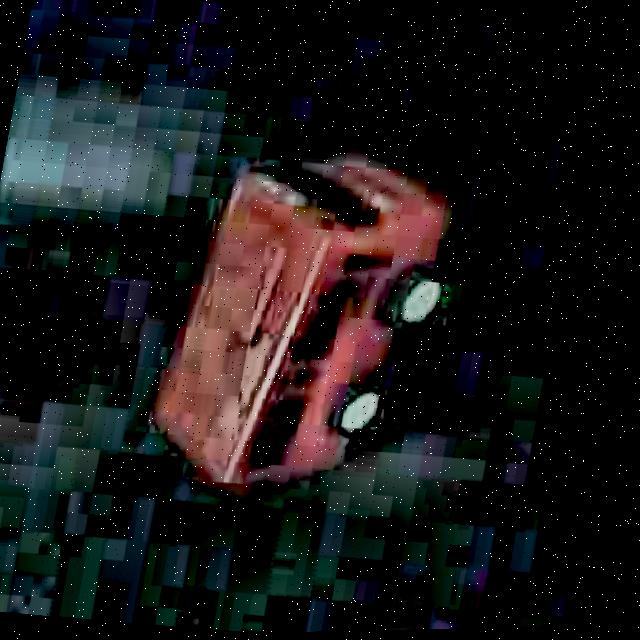bus: (117, 124, 502, 521)
